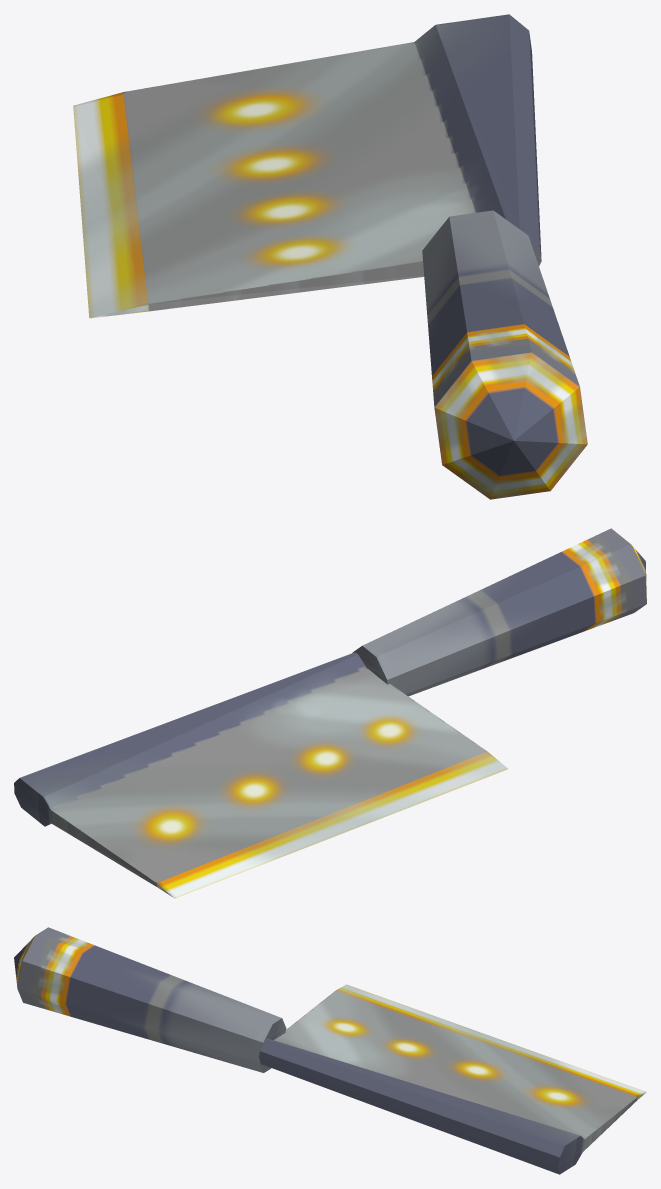
The model's file is Faca.fbx.
3 views of the same model, one above another, from view 1: azimuth 30°, elevation 25°; view 2: azimuth 150°, elevation 25°; view 3: azimuth 270°, elevation 25° (orthographic). The views are drawn at different scales.
Parts seen in each view (by area): view 1: Faca; view 2: Faca; view 3: Faca.
Boxes of the visible parts, left/top/right/bottom form: Faca: left=73, top=14, right=587, bottom=499; Faca: left=14, top=528, right=646, bottom=898; Faca: left=14, top=927, right=646, bottom=1174.
Size of the model in its own units: 125 by 43.56 by 210.
